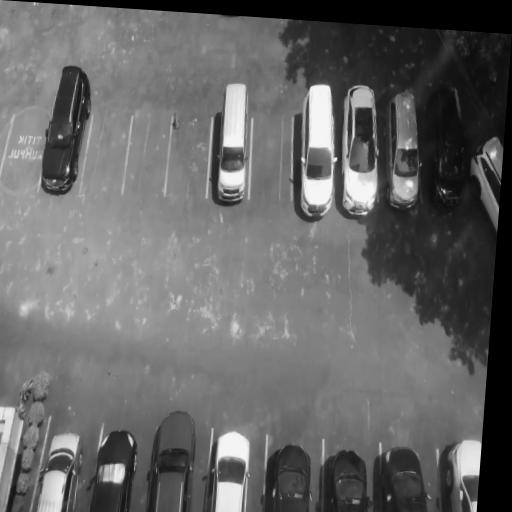Car: (40, 61, 94, 196), (291, 79, 341, 219), (336, 75, 385, 217), (208, 70, 257, 207), (142, 397, 200, 512), (381, 76, 428, 215), (422, 86, 472, 212), (461, 122, 504, 243), (31, 421, 87, 512), (201, 416, 254, 512), (89, 423, 141, 512), (261, 436, 314, 512), (437, 435, 482, 512), (381, 441, 428, 512)
Space Available: (80, 91, 130, 205), (168, 90, 215, 200), (0, 86, 47, 196), (123, 101, 172, 202), (249, 100, 295, 206)
